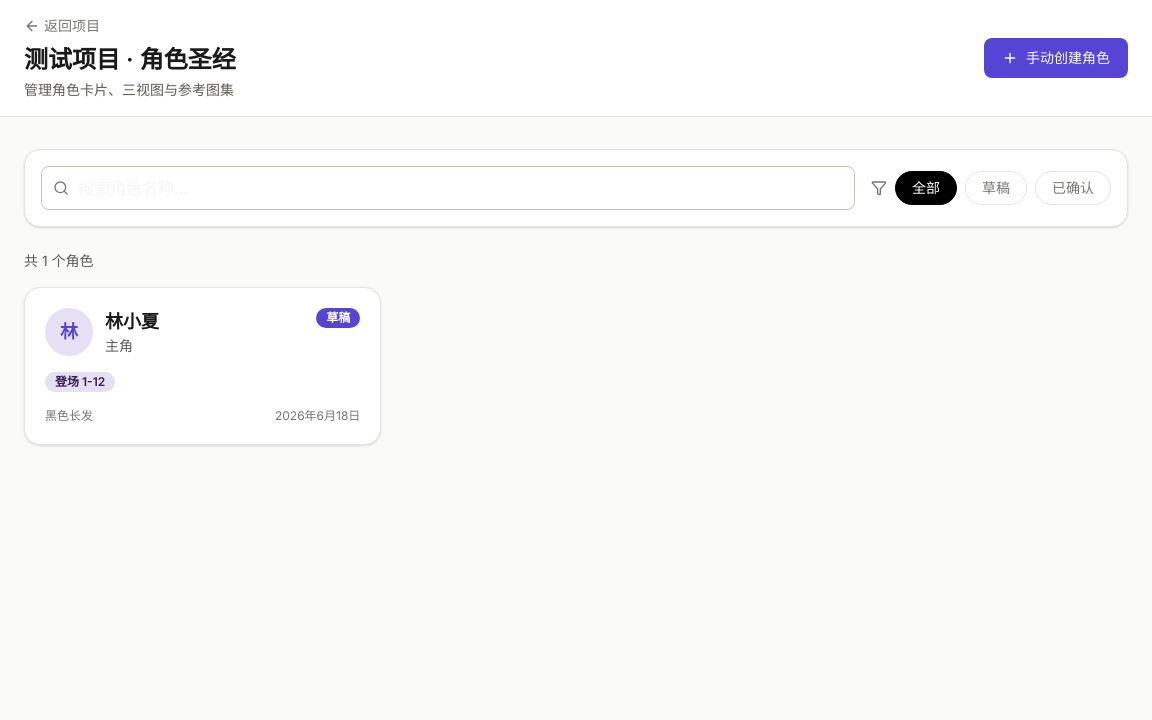
Test: CharacterListPage › filters characters by status
Check: the heading "林小夏" is shown, box left=105, top=308, right=159, bottom=336
Click the button "已确认": x=1073, y=188 left=1035, top=171, right=1111, bottom=205
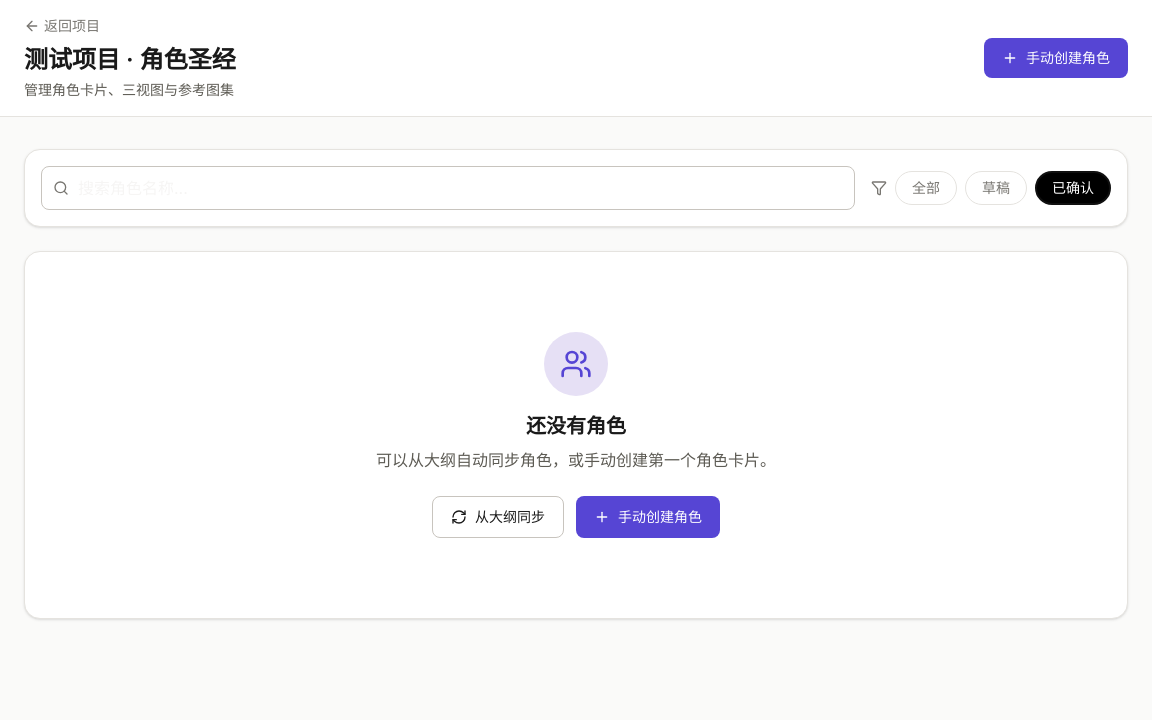
Check: the link "林小夏" is gone
Click the button "全部": x=926, y=188 left=895, top=171, right=957, bottom=205
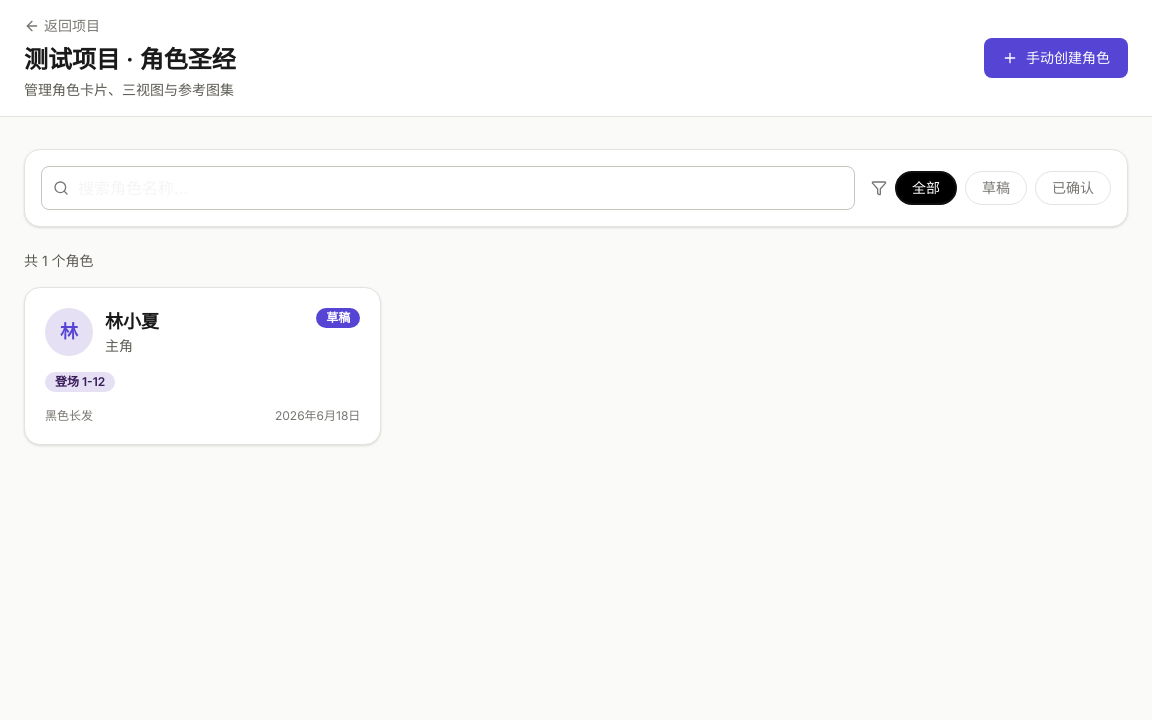
Check: the heading "林小夏" is shown, box left=105, top=308, right=159, bottom=336
